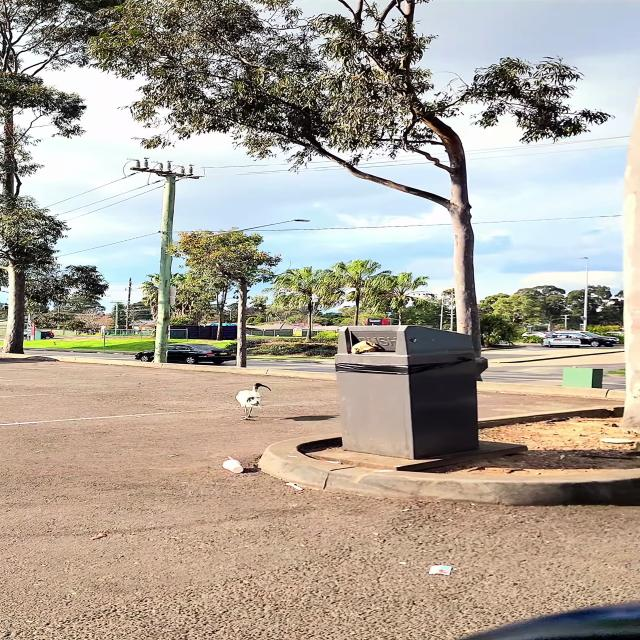Birds-Ibis: (234, 382, 273, 422)
